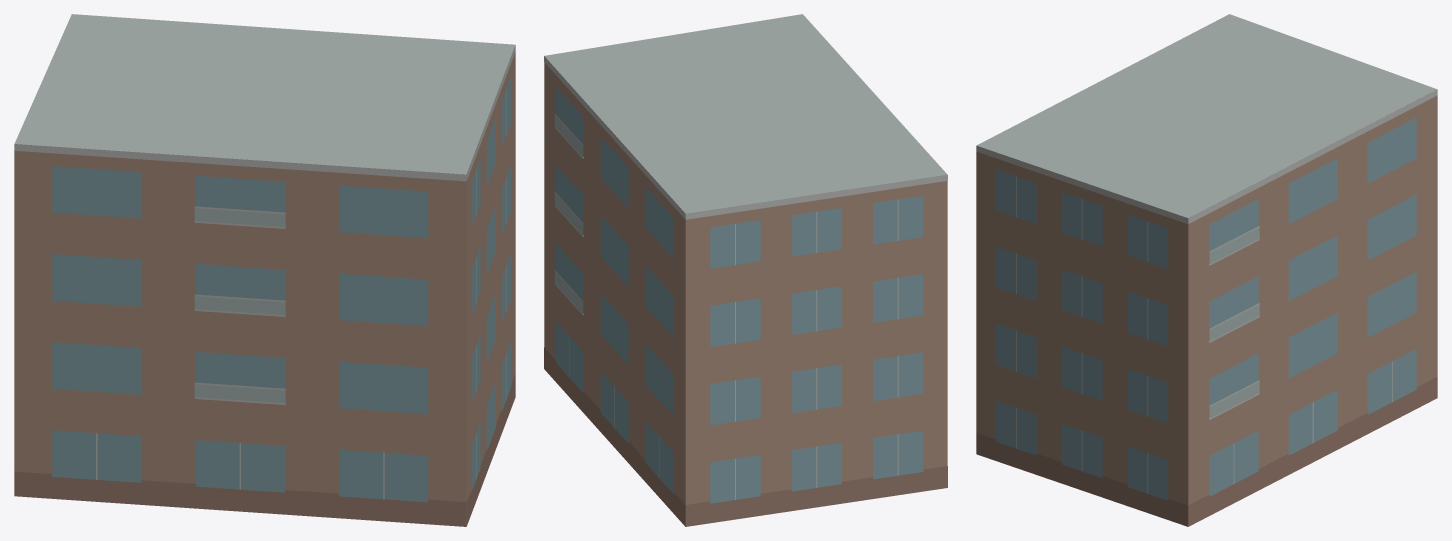
File: survey-upis-32670258.glb
The picture shows the model from 3 angles, left to right: view 1: azimuth 30°, elevation 25°; view 2: azimuth 150°, elevation 25°; view 3: azimuth 270°, elevation 25°; orthographic projection. The views are drawn at different scales.
Visible parts, largest first — view 1: survey-upis-32670258.tmp; view 2: survey-upis-32670258.tmp; view 3: survey-upis-32670258.tmp.
Boxes of the visible parts, left/top/right/bottom form: survey-upis-32670258.tmp: left=14, top=14, right=515, bottom=526; survey-upis-32670258.tmp: left=544, top=14, right=947, bottom=526; survey-upis-32670258.tmp: left=976, top=14, right=1437, bottom=526.
Size of the model in its own units: 17.89 by 12.6 by 17.08.
